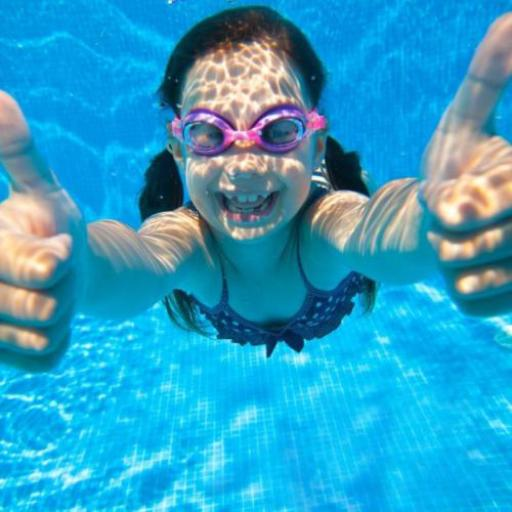swimming: (0, 2, 511, 374)
